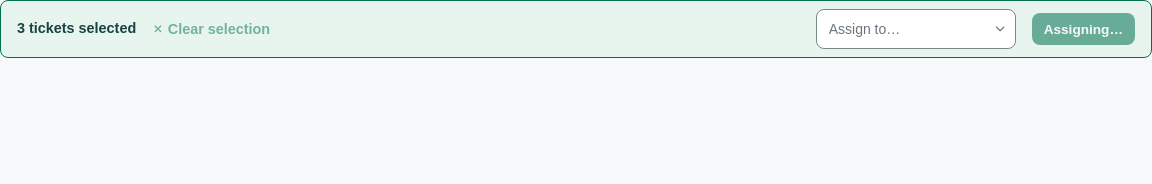
Scenario: handing a batch back to the pool › says it is handing back while it is
Press the mouse on the element named "Assign to" at [916, 29], box [816,9,1016,49]
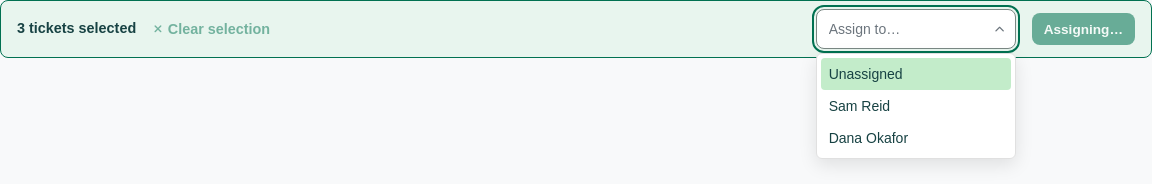
Press the mouse on the option "Unassigned" at [916, 74], box [821,58,1011,90]
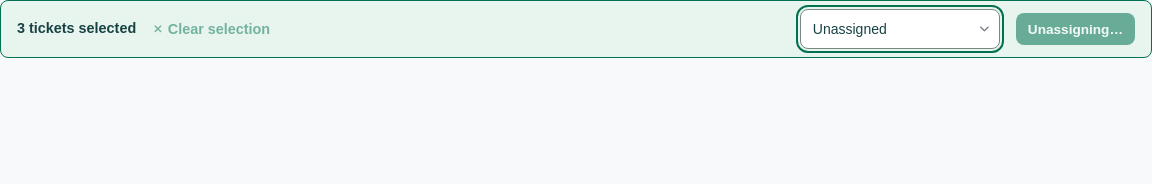
Expected: the button with class "bulk-assign__go" reads "Unassigning…", [1016,13,1135,45]
